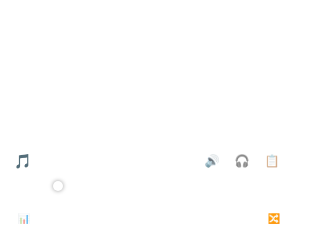
Test: MusicPlayer.vue › 音量按钮切换音量面板可见性
Click the button with class "music-btn" showing "🔊" at (212, 160), box [200,148,224,172]
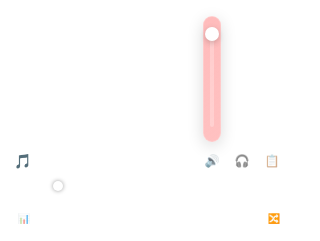
Check: the element with class "music-volume__slider" is shown, box [203,16,221,142]
